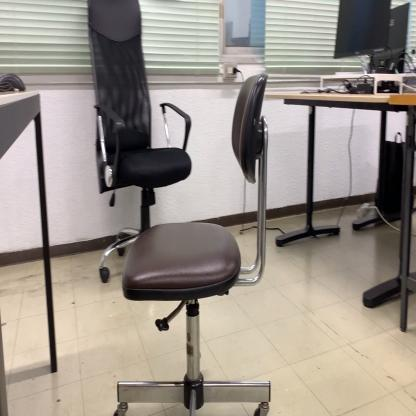chair: (113, 69, 270, 416), (83, 0, 193, 283)
